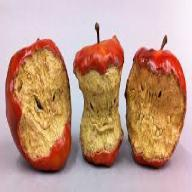apple: (6, 36, 69, 178), (126, 47, 186, 178), (71, 36, 123, 166)
